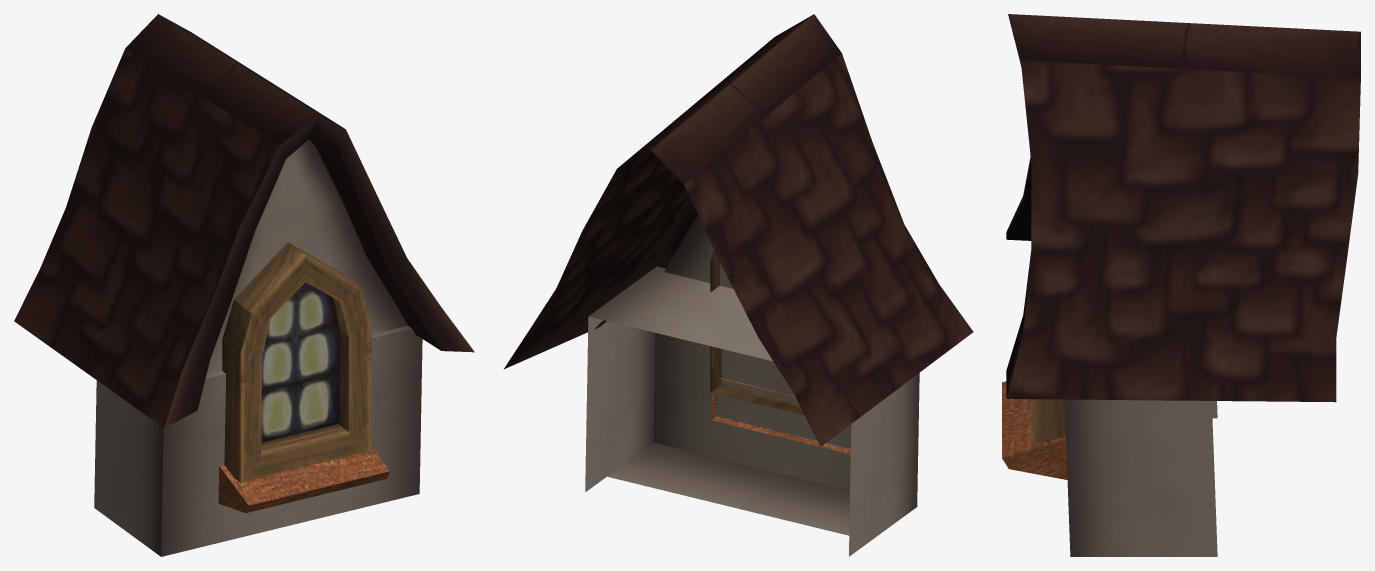
File: fanasty_mod_roof_window02.fbx
3 views of the same model, side by side, from view 1: azimuth 30°, elevation 25°; view 2: azimuth 150°, elevation 25°; view 3: azimuth 270°, elevation 25° (orthographic). The views are drawn at different scales.
Visible parts, largest first — view 1: roof_window_02; view 2: roof_window_02; view 3: roof_window_02.
Part boxes in pixels (box(x1,y1,x2,y2)): roof_window_02: box(14, 14, 474, 556); roof_window_02: box(503, 14, 973, 556); roof_window_02: box(1002, 14, 1360, 556).
Bounding box in the file's own units: 1.9 × 2.52 × 1.73.
